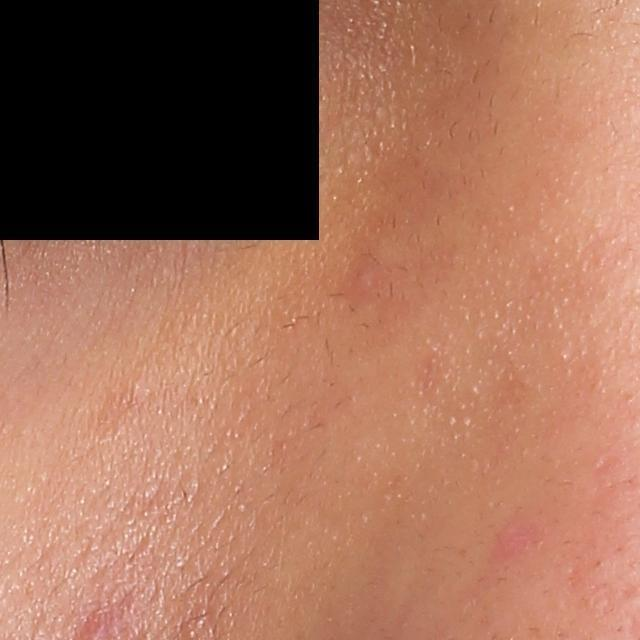papule: (346, 265, 380, 299)
